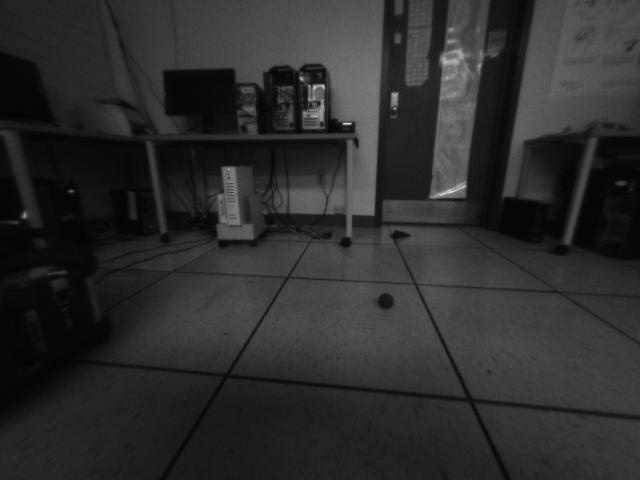dogtoy: (370, 288, 402, 316)
